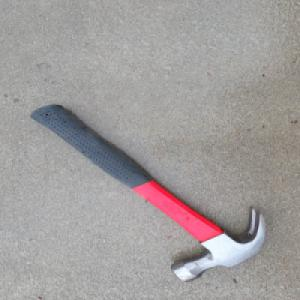Hammer: (24, 99, 265, 278)
